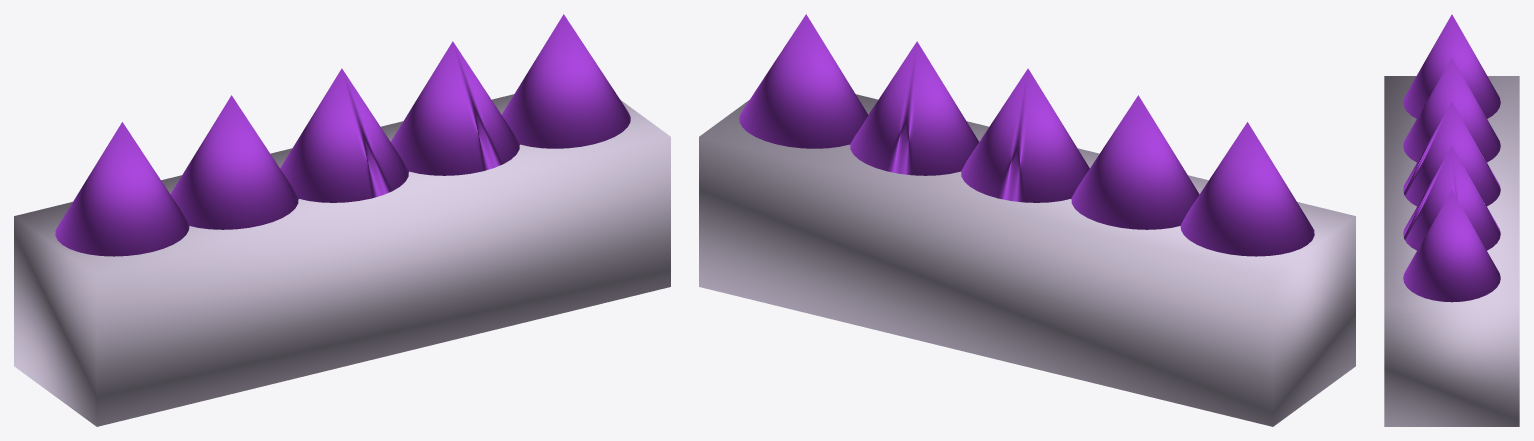
The model's file is platform_damage_top.obj.
3 views of the same model, side by side, from view 1: azimuth 30°, elevation 25°; view 2: azimuth 150°, elevation 25°; view 3: azimuth 270°, elevation 25° (orthographic). The views are drawn at different scales.
Parts seen in each view (by area): view 1: 円錐.004; view 2: 円錐.004; view 3: 円錐.004.
Part boxes in pixels (bbox=[...]): 円錐.004: bbox=[14, 14, 670, 426]; 円錐.004: bbox=[699, 14, 1355, 426]; 円錐.004: bbox=[1384, 14, 1519, 426].
Size of the model in its own units: 4 by 1.72 by 1.
